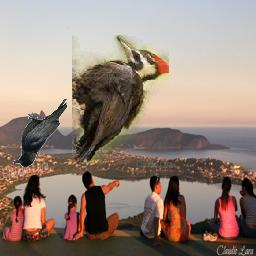Crow: (11, 99, 67, 168)
Woodpecker: (73, 36, 170, 165)
